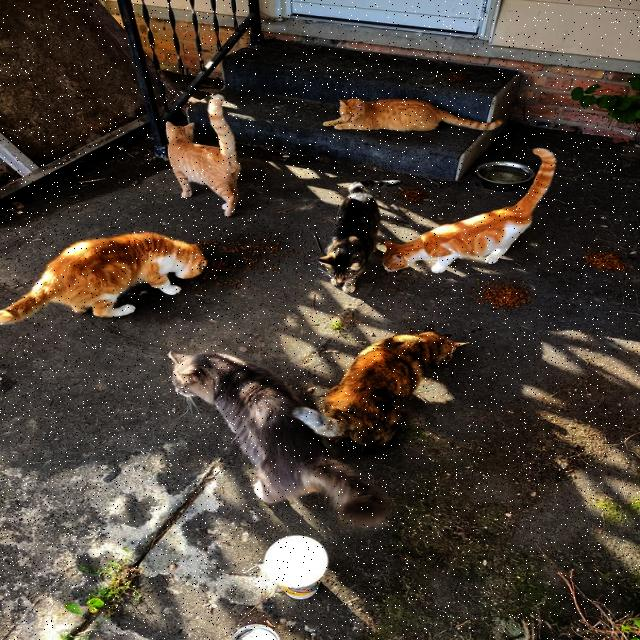cat: (168, 330, 464, 528), (168, 352, 388, 528), (382, 149, 557, 273), (0, 232, 207, 323), (165, 95, 242, 216), (318, 180, 399, 293), (323, 99, 502, 131)
